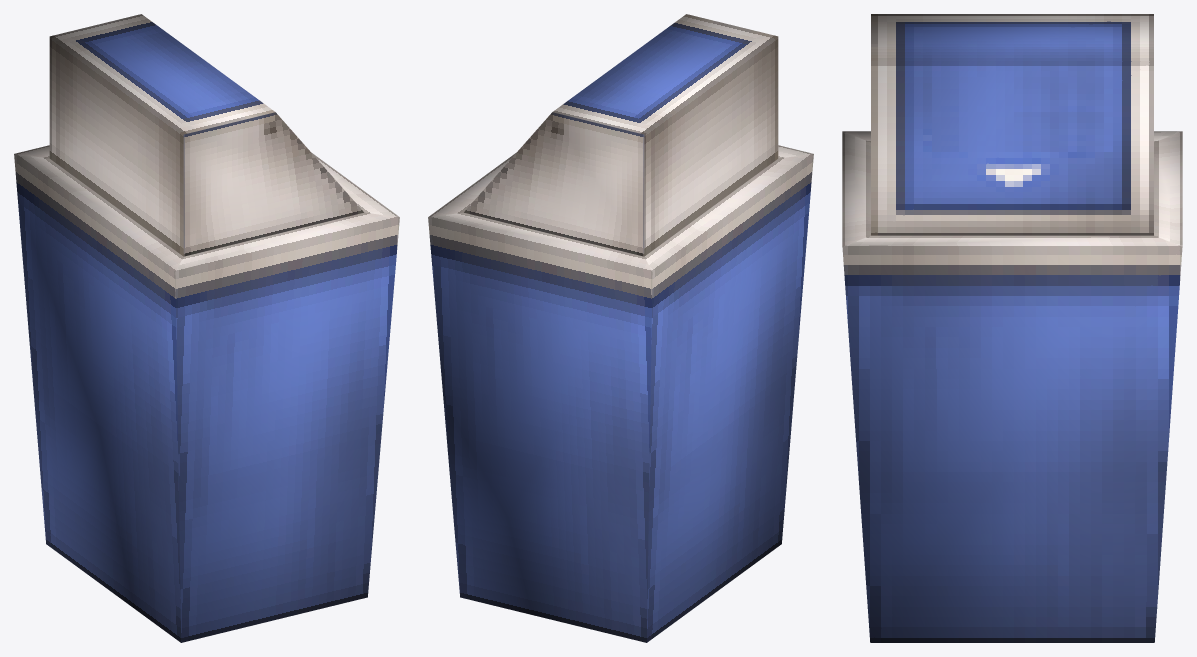
File: a_SCwb01.glb
3 views of the same model, side by side, from view 1: azimuth 30°, elevation 25°; view 2: azimuth 150°, elevation 25°; view 3: azimuth 270°, elevation 25° (orthographic). The views are drawn at different scales.
Parts seen in each view (by area): view 1: a_SCwb01; view 2: a_SCwb01; view 3: a_SCwb01.
Boxes of the visible parts, bbox=[...] form: a_SCwb01: bbox=[14, 14, 399, 642]; a_SCwb01: bbox=[428, 14, 813, 642]; a_SCwb01: bbox=[842, 14, 1182, 642].
Bounding box in the file's own units: 0.3421 × 0.7387 × 0.426.
Materials: 1 (1 with a texture image).
